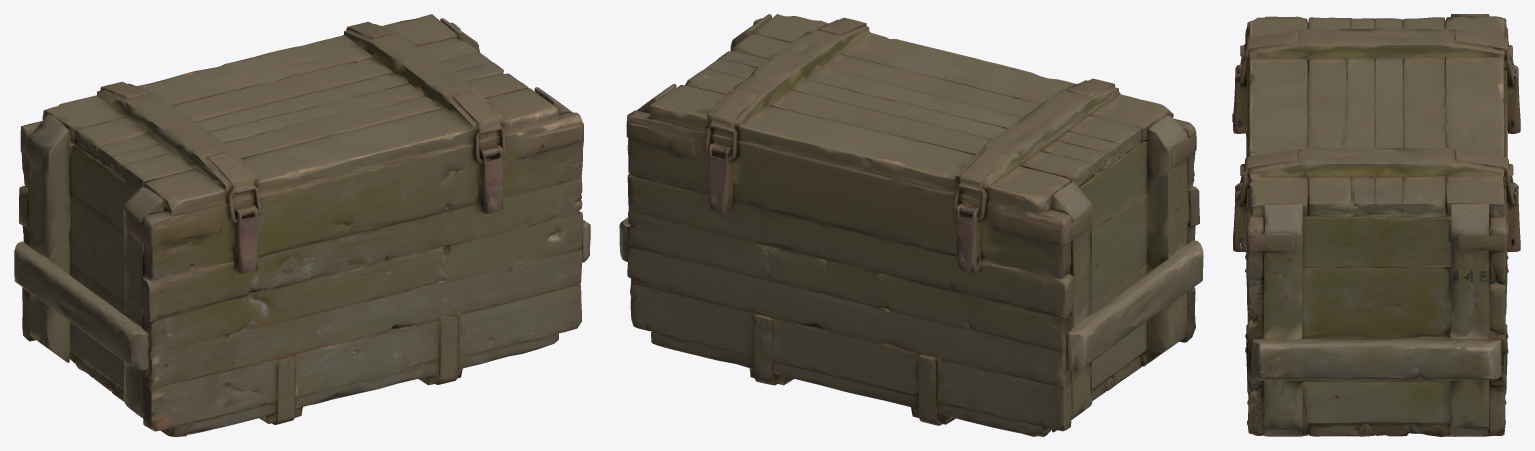
3 views of the same model, side by side, from view 1: azimuth 30°, elevation 25°; view 2: azimuth 150°, elevation 25°; view 3: azimuth 270°, elevation 25° (orthographic). The views are drawn at different scales.
Visible parts, largest first — view 1: tripo_node_22fd052d-3c70-44fe-9f81-e4ce53d18bbf; view 2: tripo_node_22fd052d-3c70-44fe-9f81-e4ce53d18bbf; view 3: tripo_node_22fd052d-3c70-44fe-9f81-e4ce53d18bbf.
Part boxes in pixels (<box>): tripo_node_22fd052d-3c70-44fe-9f81-e4ce53d18bbf: <box>14,14,590,436</box>; tripo_node_22fd052d-3c70-44fe-9f81-e4ce53d18bbf: <box>619,14,1203,436</box>; tripo_node_22fd052d-3c70-44fe-9f81-e4ce53d18bbf: <box>1232,14,1520,436</box>.
Bounding box in the file's own units: 1 × 0.5512 × 0.5474.
1 material, 1 textured.
